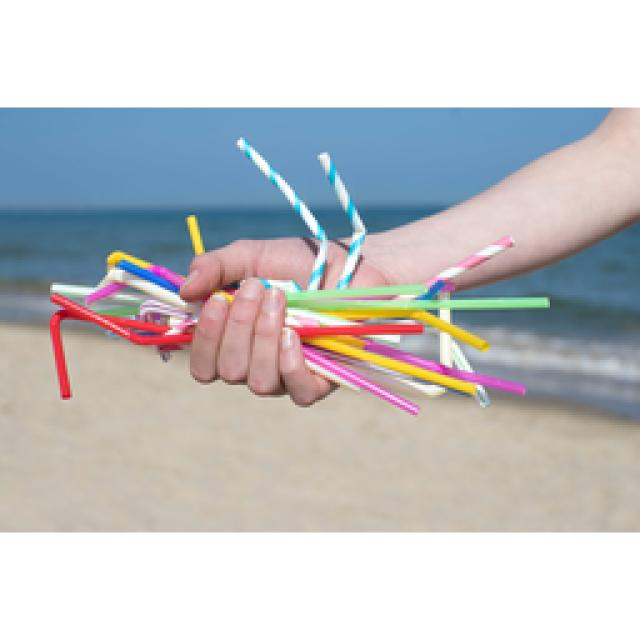plastic: (238, 138, 548, 412), (50, 250, 200, 398)
